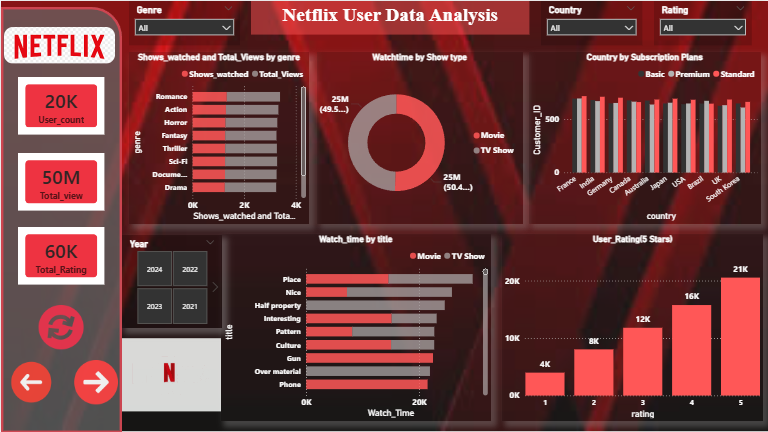

Layout of this report page (visuals, bound fields, positions):
{"tool":"powerbi","page":{"name":"Home","canvas":[1280,720],"ordinal":0},"visuals":[{"type":"donutChart","title":"Watchtime by Show type","fields":{"Category":["netflix_dataset_20000 csv.type"],"Y":["Sum(netflix_customer_ratings_20000.watch_time_minutes)"]},"box":[526.3,85.3,342.7,286.3],"z":1000},{"type":"clusteredColumnChart","title":"Country by Subscription Plans","fields":{"Category":["netflix_customer_ratings_20000.country"],"Y":["CountNonNull(netflix_customer_ratings_20000.customer_id)"],"Series":["netflix_customer_ratings_20000.subscription_type"]},"box":[880.5,85.3,386,286.3],"z":2000},{"type":"barChart","title":" Watch_time by title","fields":{"Y":["Sum(netflix_customer_ratings_20000.watch_time_minutes)"],"Category":["netflix_dataset_20000 csv.title"],"Series":["netflix_dataset_20000 csv.type"]},"box":[367.2,388.9,449.6,312.3],"z":3000},{"type":"clusteredColumnChart","title":"User_Rating(5 Stars) ","fields":{"Category":["netflix_customer_ratings_20000.rating"],"Y":["Sum(netflix_customer_ratings_20000.rating)"]},"box":[835.7,388.9,435.2,312.3],"z":4000},{"type":"textbox","box":[416.4,0,464.1,56.4],"z":5000},{"type":"shape","box":[0,10,201.7,710],"z":5500},{"type":"slicer","fields":{"Values":["netflix_customer_ratings_20000.country"]},"box":[899.3,0,169.2,73.7],"z":6000},{"type":"slicer","fields":{"Values":["netflix_customer_ratings_20000.rating"]},"box":[1088.7,0,163.4,73.7],"z":7000},{"type":"slicer","fields":{"Values":["netflix_dataset_20000 csv.genre","netflix_customer_ratings_20000.Watcher_type"]},"box":[212.5,0,185.1,73.7],"z":9000},{"type":"image","box":[202.4,545.1,164.8,156.1],"z":10000},{"type":"cardVisual","fields":{"Data":["netflix_customer_ratings_20000.User_count"]},"box":[23.1,121.4,154.7,107],"z":11000},{"type":"cardVisual","fields":{"Data":["netflix_customer_ratings_20000.Total_view"]},"box":[23.1,248.7,154.7,107],"z":12000},{"type":"cardVisual","fields":{"Data":["netflix_customer_ratings_20000.Total_Rating"]},"box":[23.1,371.6,154.7,107],"z":13000},{"type":"slicer","fields":{"Values":["netflix_dataset_20000 csv.release_year"]},"box":[201,390.4,166.3,154.7],"z":14000},{"type":"image","box":[57.1,507.1,87.1,74.3],"z":15000},{"type":"image","box":[0,598.6,101.2,73.7],"z":16000},{"type":"image","box":[114.2,598.6,86.7,73.7],"z":17000},{"type":"image","box":[5.4,43.2,185.1,60.8],"z":18000},{"type":"barChart","fields":{"Y":["netflix_dataset_20000 csv.Shows_watched","netflix_dataset_20000 csv.Total_Views"],"Category":["netflix_dataset_20000 csv.genre"]},"box":[213.3,85,300,286.7],"z":18001}]}

Visuals, with their boxes in screenshot pixels (x1, y1, x2, y2), scaled from the page's 1280x720 canvas onto the 768x432 screenshot:
"Watchtime by Show type" donutChart: bbox=(316, 51, 521, 223)
"Country by Subscription Plans" clusteredColumnChart: bbox=(528, 51, 760, 223)
" Watch_time by title" barChart: bbox=(220, 233, 490, 421)
"User_Rating(5 Stars) " clusteredColumnChart: bbox=(501, 233, 763, 421)
textbox: bbox=(250, 0, 528, 34)
shape: bbox=(0, 6, 121, 431)
slicer - netflix_customer_ratings_20000.country: bbox=(540, 0, 641, 44)
slicer - netflix_customer_ratings_20000.rating: bbox=(653, 0, 751, 44)
slicer - netflix_dataset_20000 csv.genre x netflix_customer_ratings_20000.Watcher_type: bbox=(128, 0, 239, 44)
image: bbox=(121, 327, 220, 421)
cardVisual - netflix_customer_ratings_20000.User_count: bbox=(14, 73, 107, 137)
cardVisual - netflix_customer_ratings_20000.Total_view: bbox=(14, 149, 107, 213)
cardVisual - netflix_customer_ratings_20000.Total_Rating: bbox=(14, 223, 107, 287)
slicer - netflix_dataset_20000 csv.release_year: bbox=(121, 234, 220, 327)
image: bbox=(34, 304, 87, 349)
image: bbox=(0, 359, 61, 403)
image: bbox=(69, 359, 121, 403)
image: bbox=(3, 26, 114, 62)
barChart - netflix_dataset_20000 csv.Shows_watched x netflix_dataset_20000 csv.Total_Views: bbox=(128, 51, 308, 223)
